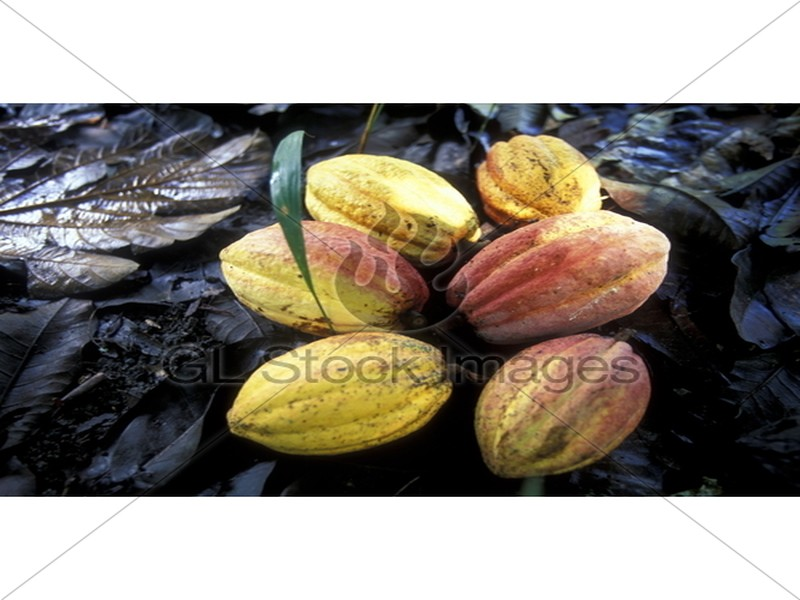Cacaopod: (444, 210, 666, 341)
